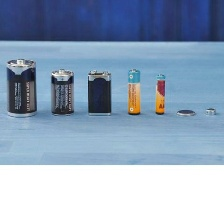battery: (2, 56, 38, 120), (47, 67, 76, 119), (85, 68, 114, 118), (124, 67, 143, 117), (153, 71, 168, 117), (174, 107, 198, 118), (203, 106, 218, 119)
